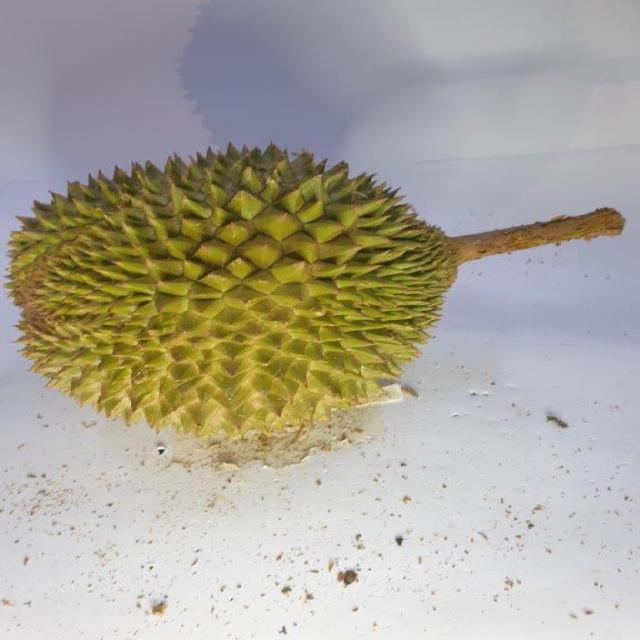immature: (7, 142, 463, 446)
